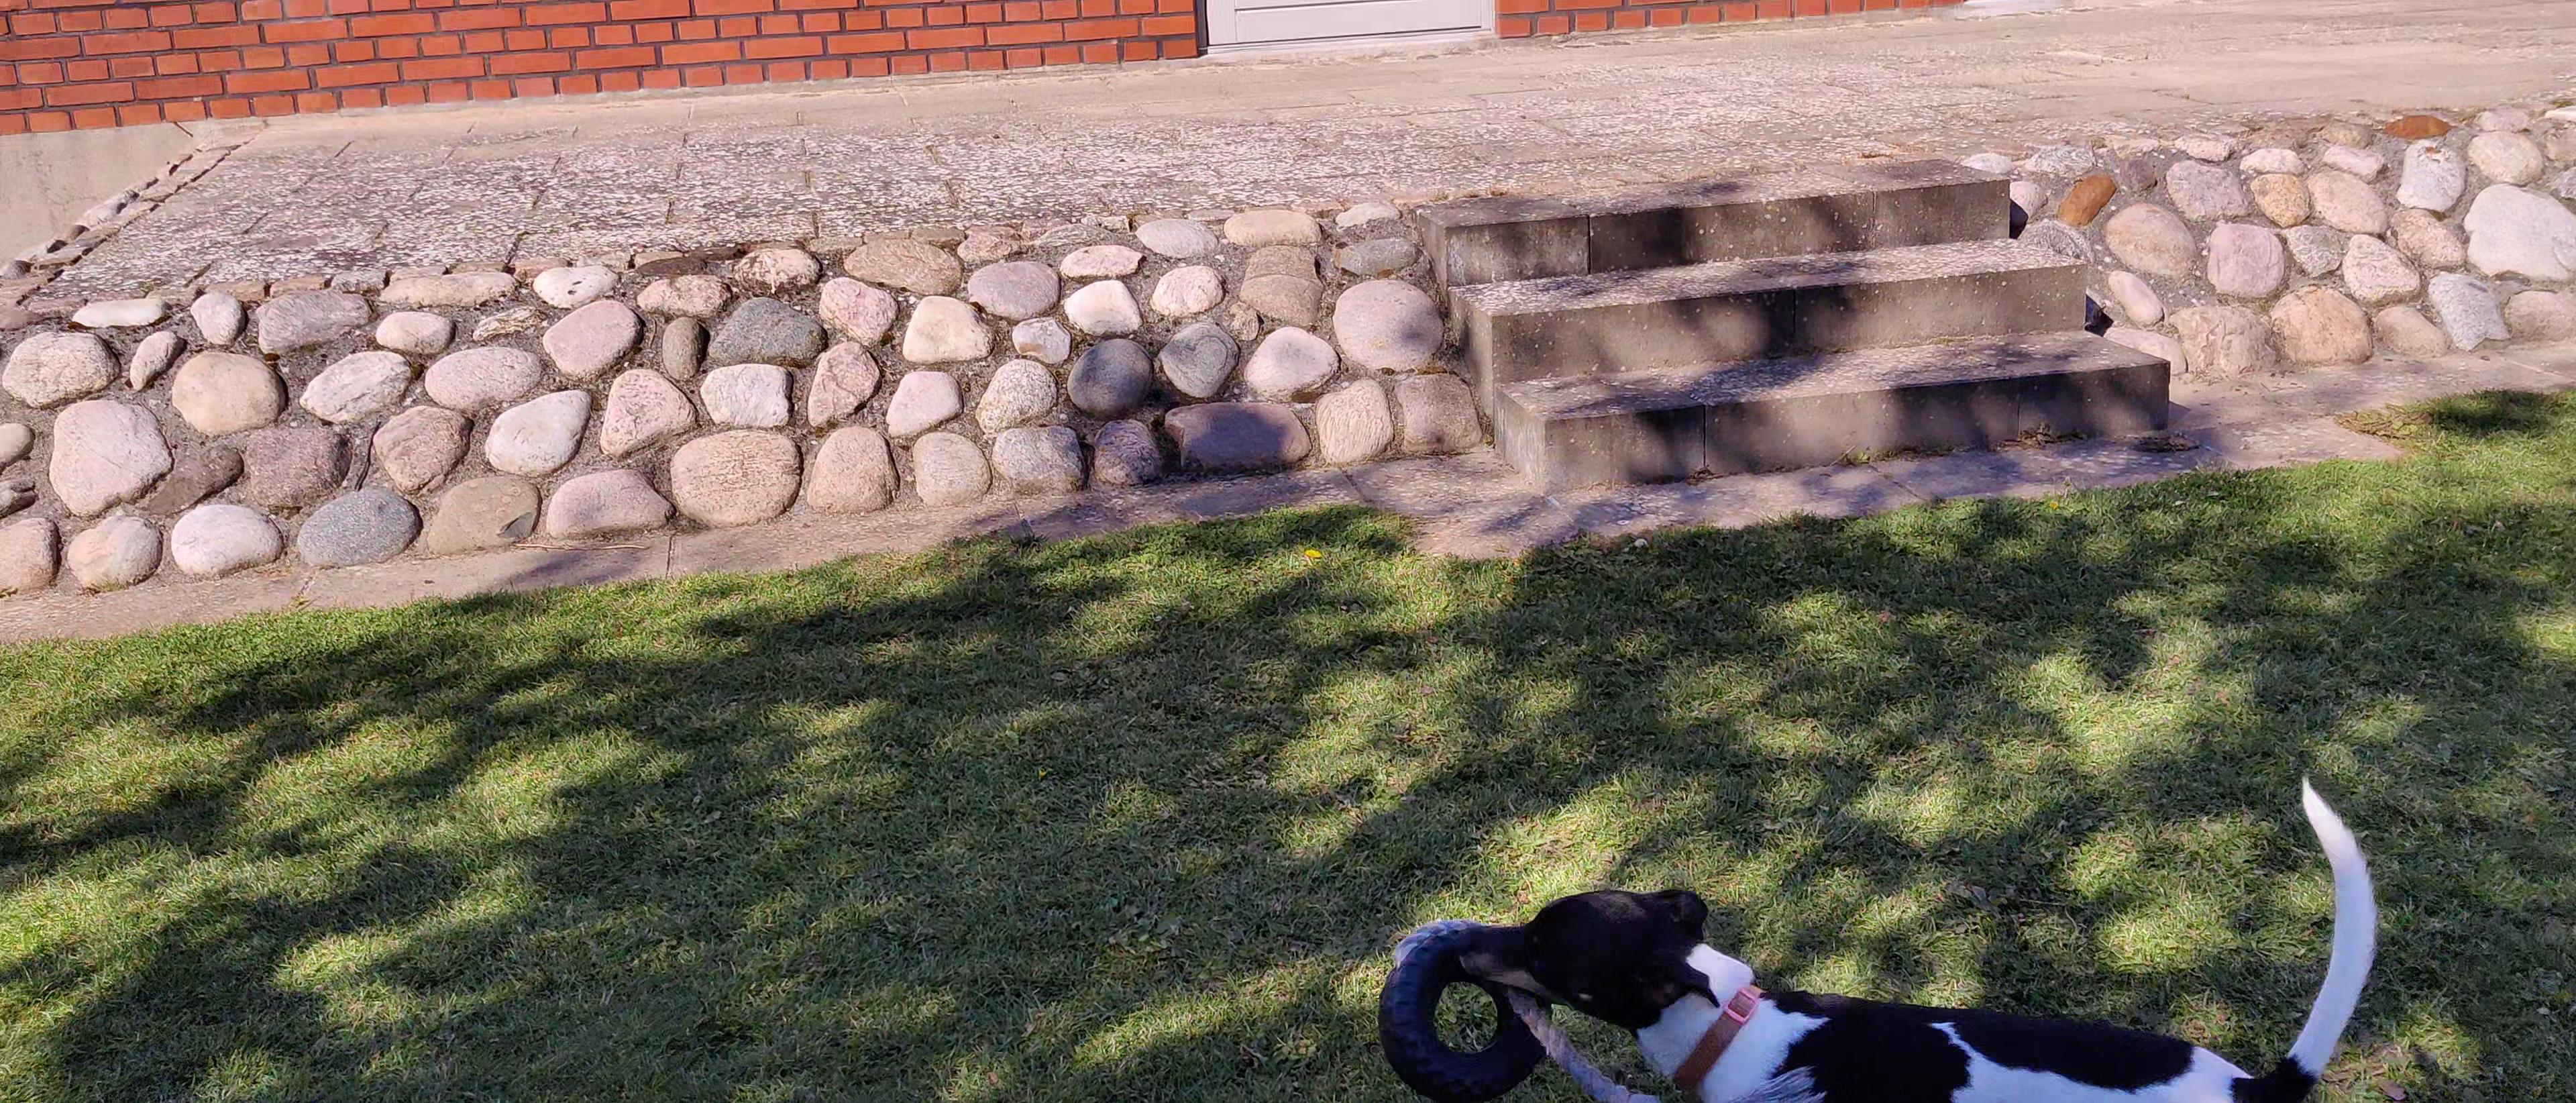Dog: (1446, 759, 2389, 1103)
